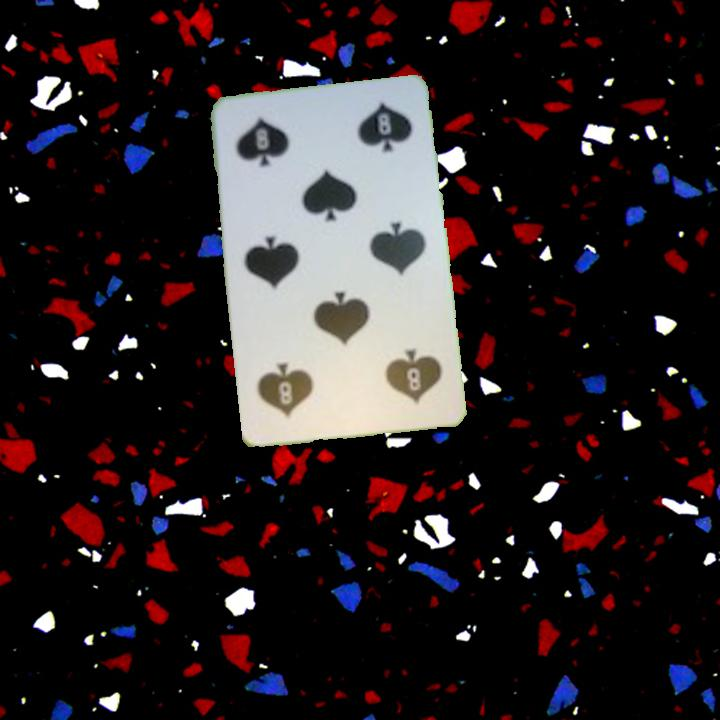s_8.png: (223, 101, 331, 197), (342, 325, 450, 421)
